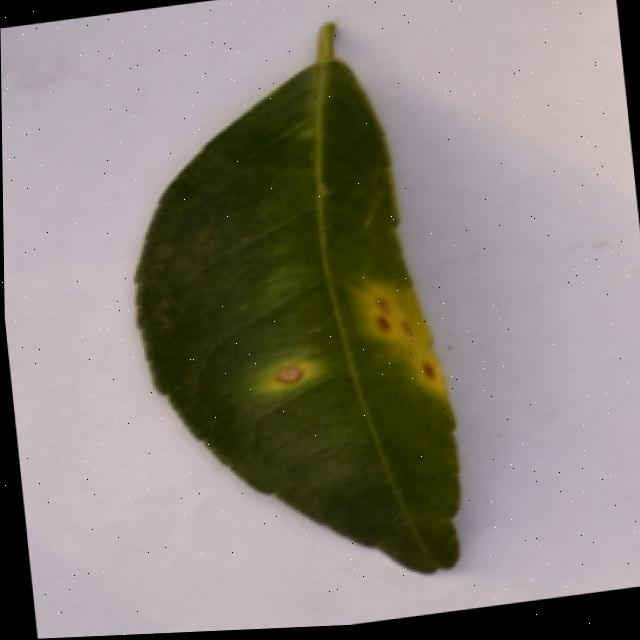canker: (137, 26, 459, 567), (321, 265, 462, 403), (252, 348, 329, 408)
